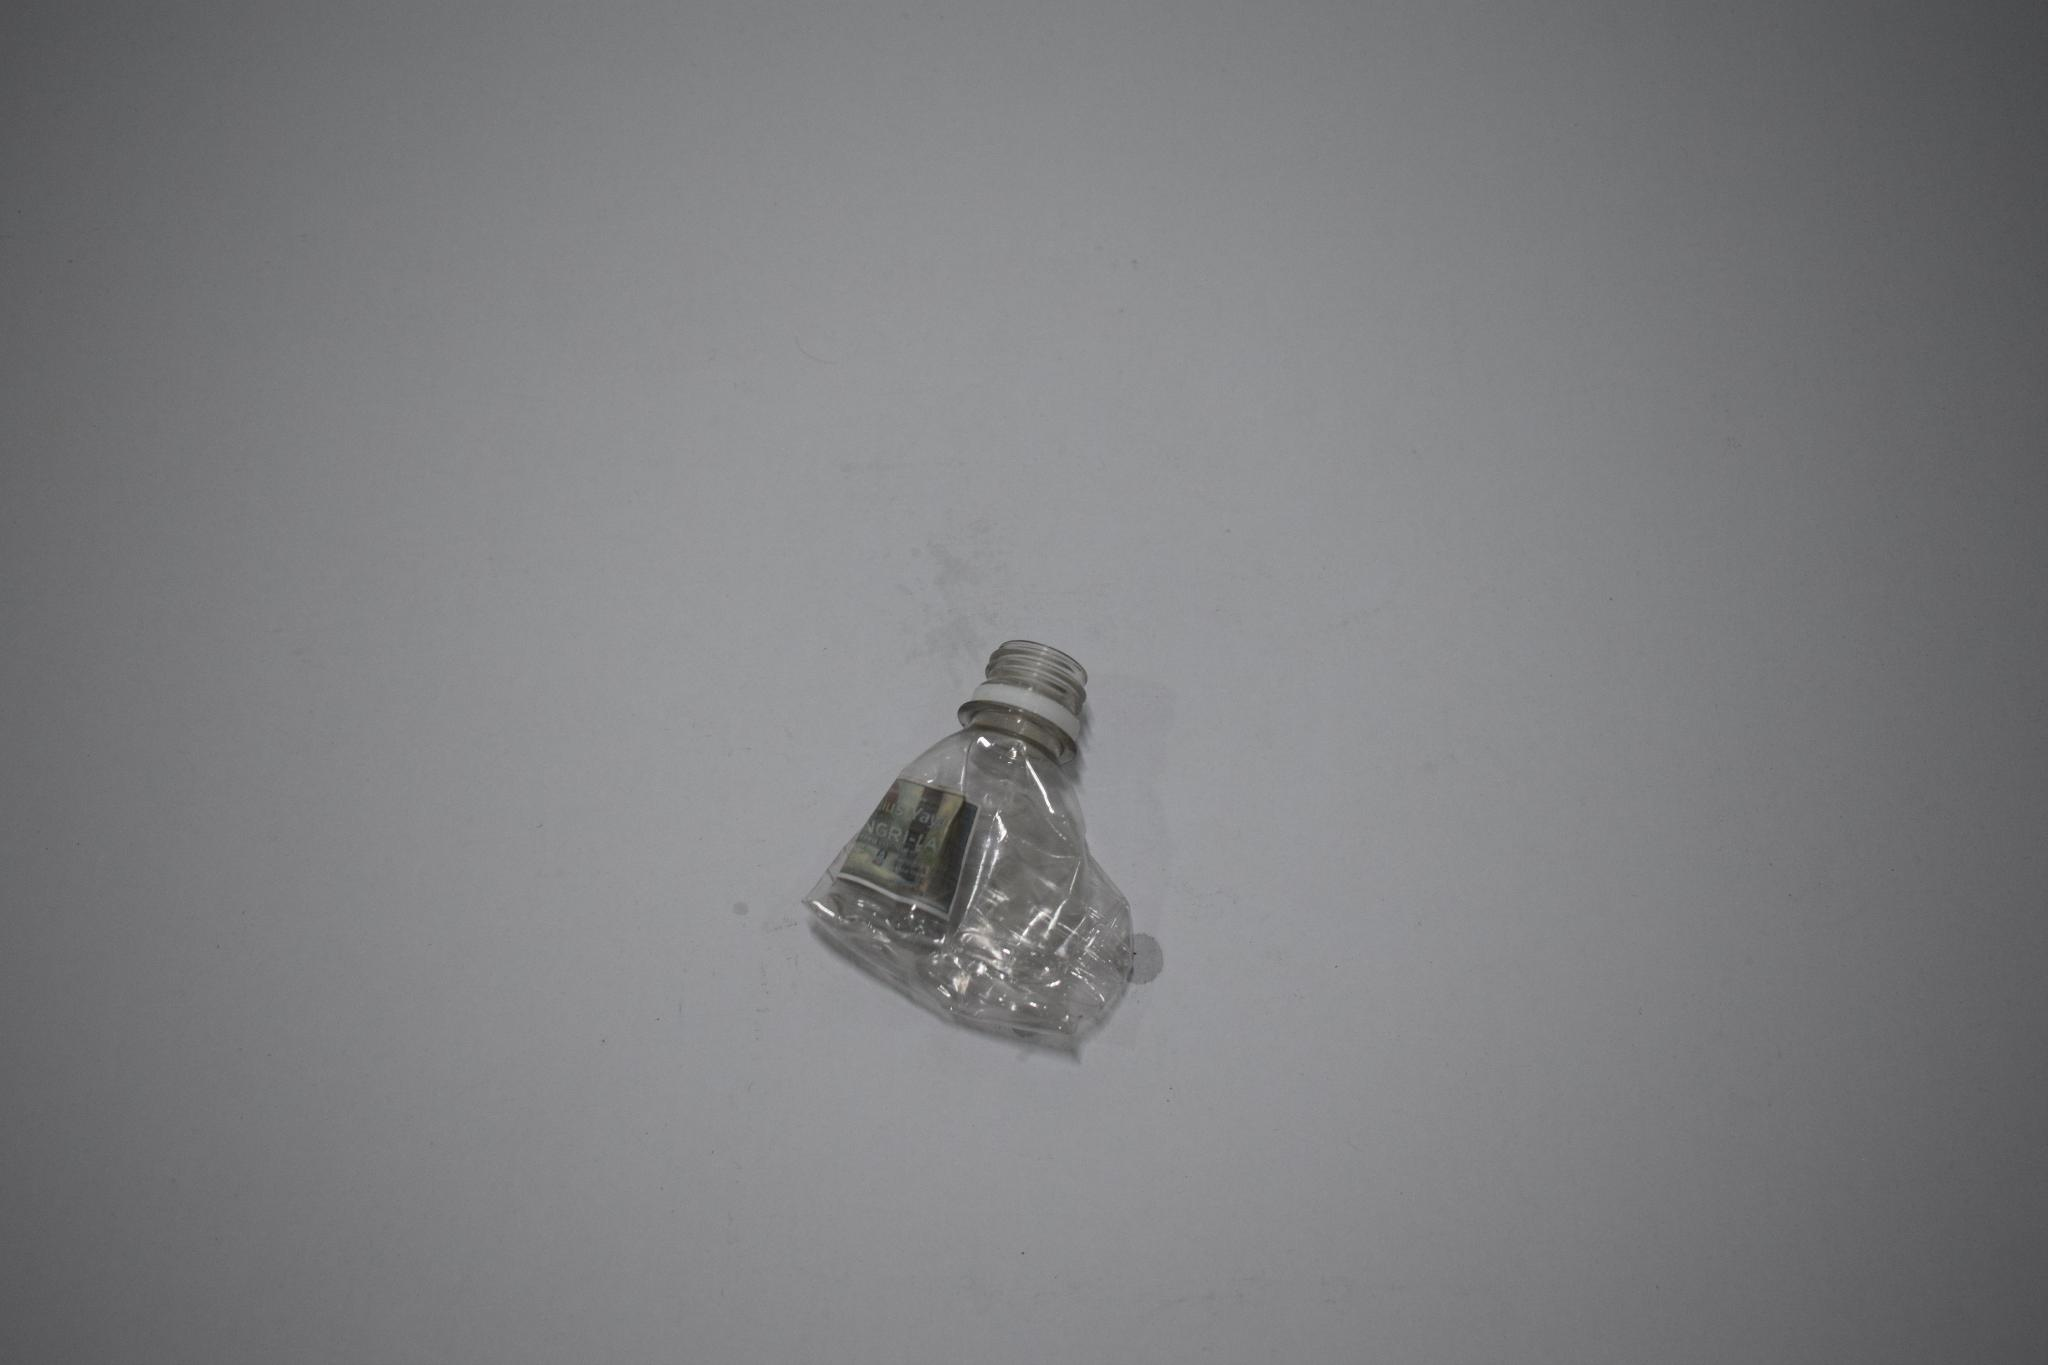bottle: (792, 631, 1140, 1066)
